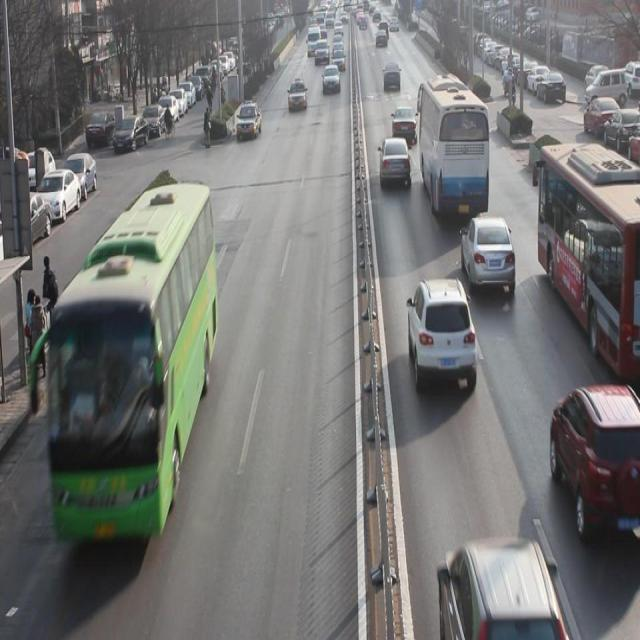car: (435, 534, 565, 640), (550, 376, 627, 545), (404, 276, 479, 398), (460, 211, 517, 299), (378, 137, 412, 191), (237, 101, 263, 143), (392, 106, 418, 146), (286, 82, 310, 114), (382, 62, 402, 96), (321, 64, 341, 97), (314, 41, 330, 68), (332, 48, 346, 71)
truck: (306, 27, 321, 56)
van: (44, 182, 216, 550), (538, 140, 640, 386), (418, 79, 490, 223)
